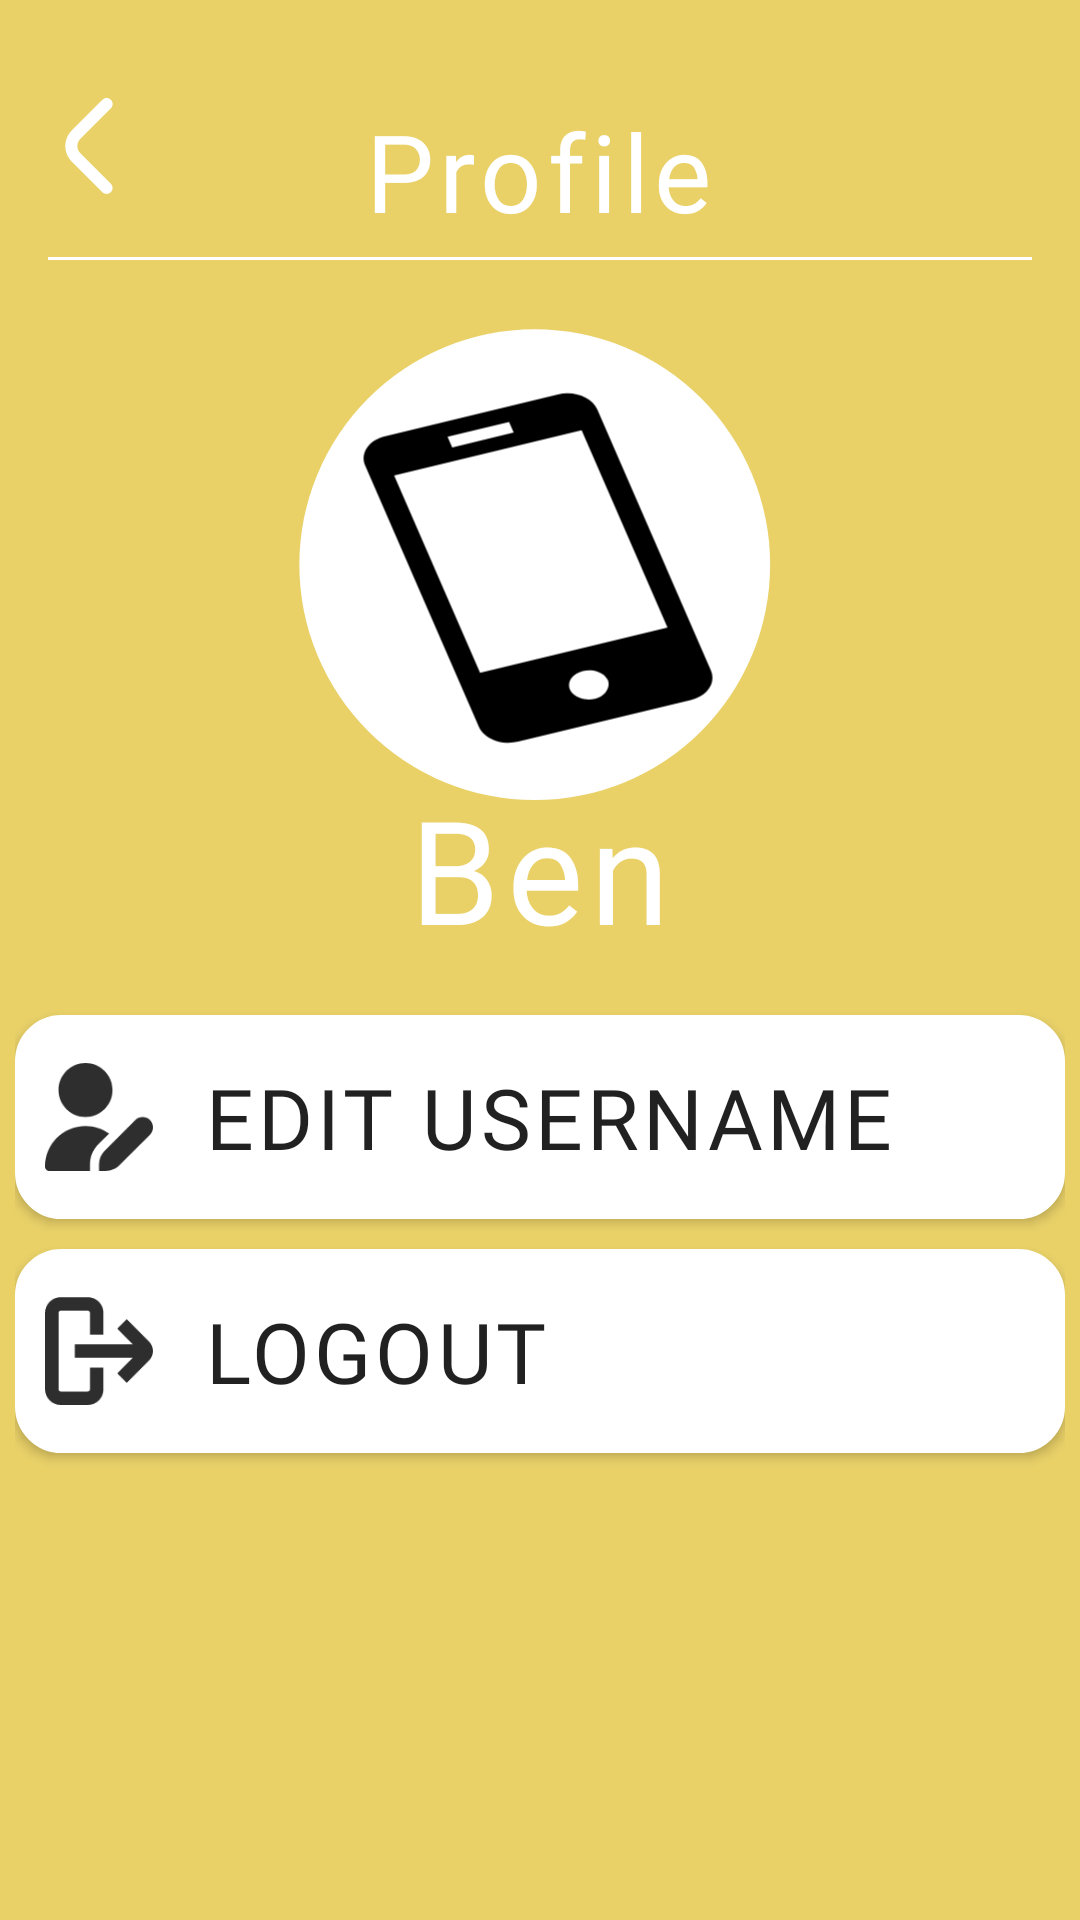

Icons on this 1080px x 1920px Android screen, each with its box as (x1, y1, x2, y2):
back page: (65, 98, 113, 194)
